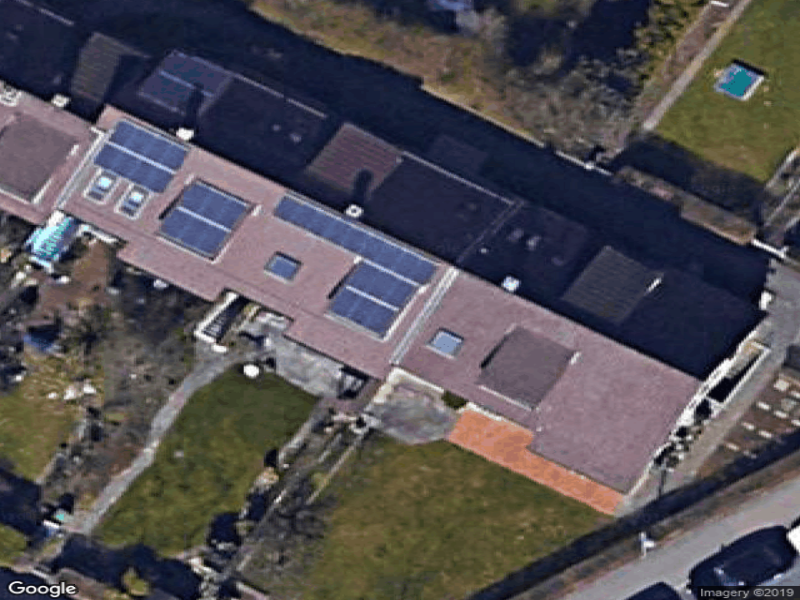pv: (272, 194, 437, 340), (96, 119, 192, 194), (162, 179, 249, 259)
